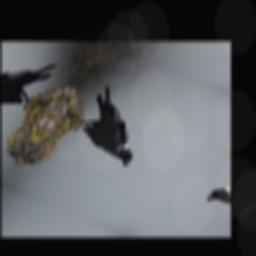Crow: (61, 83, 172, 169)
